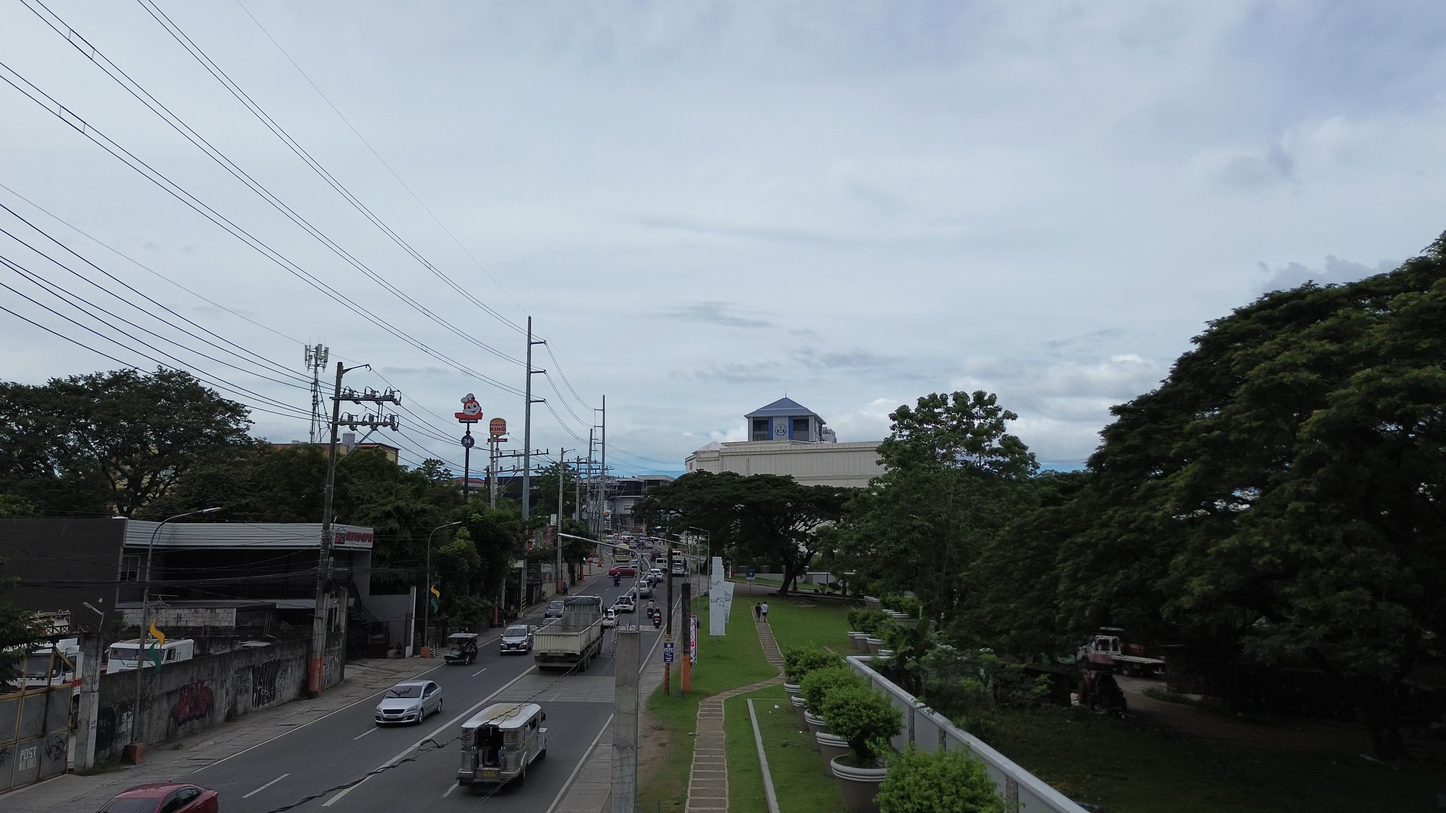bus: (614, 544, 634, 564)
car: (99, 783, 218, 813), (614, 594, 636, 613), (607, 564, 638, 577), (637, 579, 653, 598), (671, 562, 686, 577)
truck: (534, 595, 602, 671)
vehicle: (456, 703, 547, 785), (1077, 627, 1165, 675), (23, 638, 85, 693), (375, 681, 442, 723), (444, 632, 479, 664), (107, 639, 138, 673), (499, 624, 533, 654), (614, 543, 634, 564), (607, 564, 638, 577), (544, 599, 565, 618), (614, 593, 635, 612), (636, 580, 654, 598), (601, 608, 617, 628), (648, 568, 665, 585), (671, 562, 686, 577)
